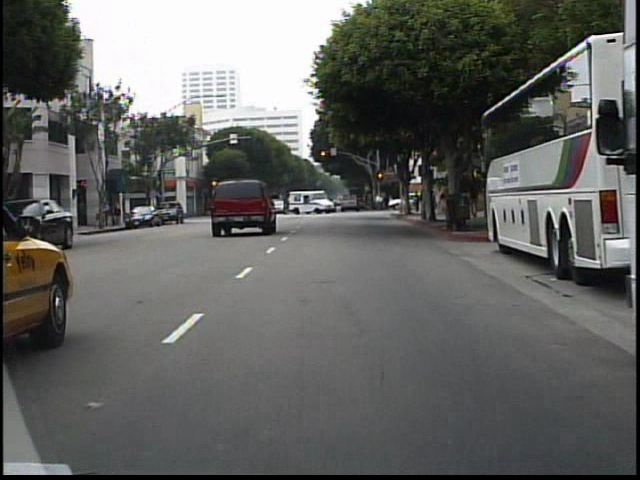person: (437, 182, 449, 221)
